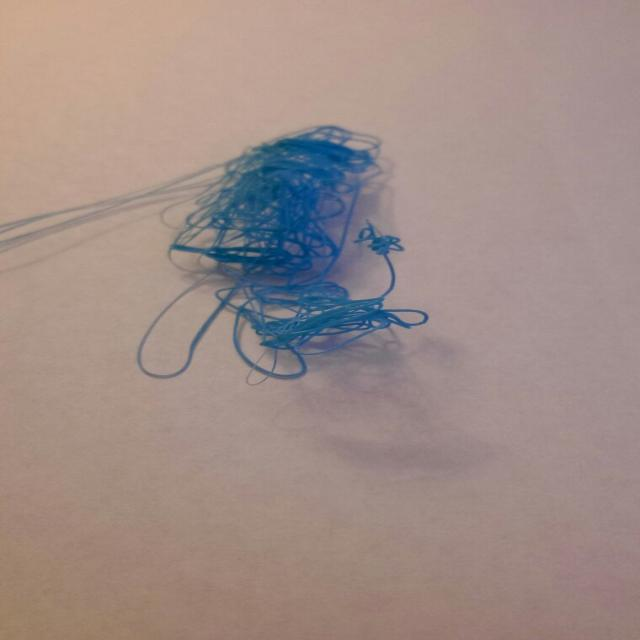spaghetti: (121, 124, 442, 393)
